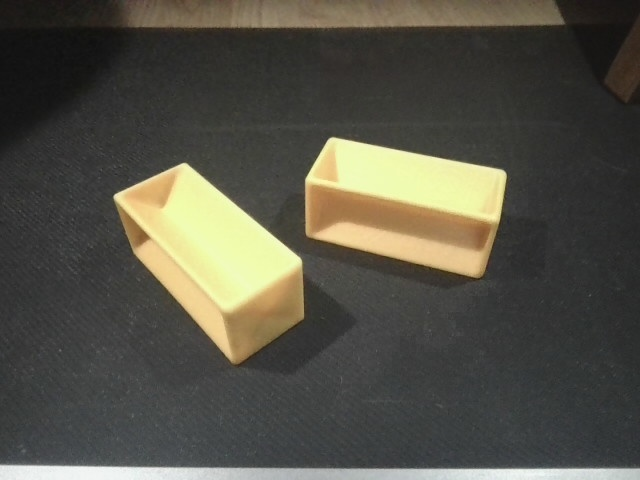YellowSample: (110, 161, 308, 366), (302, 135, 510, 283)
